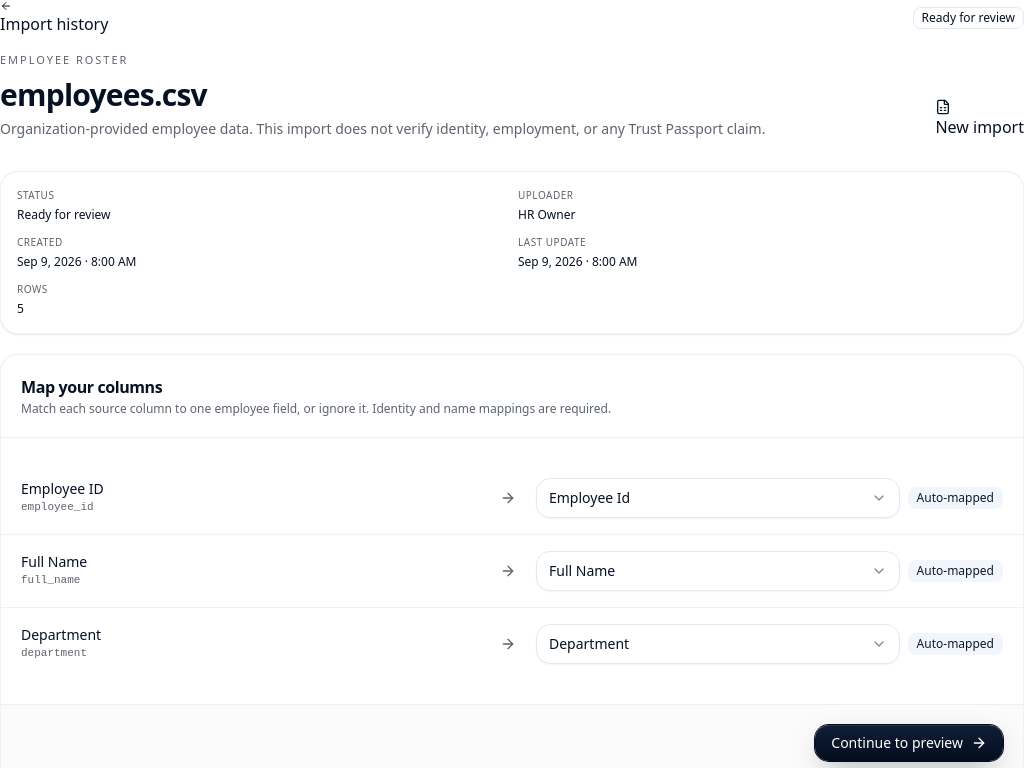
Test: employee roster import detail › renders preview counts, duplicate rows and invalid-row messages
Click the button "Continue to preview": (909, 742) [815, 724, 1003, 760]
(page scrolled)
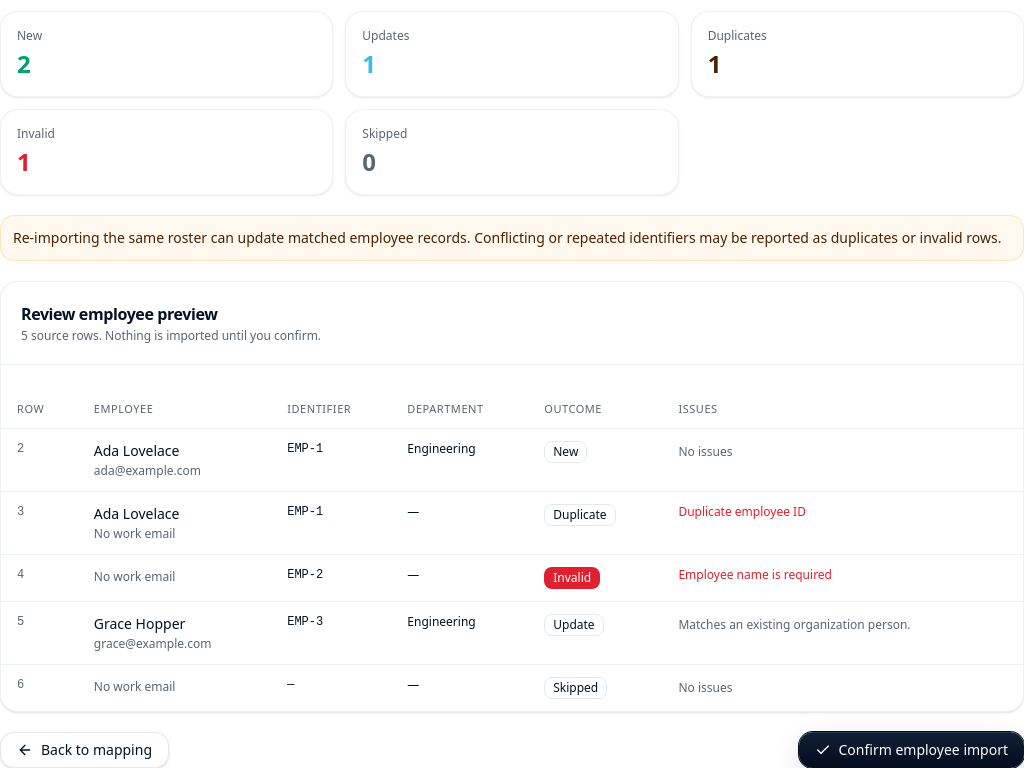
Expected: the heading "Review employee preview" is shown, [21, 302, 217, 324]
Expected: the text "New" next to "Updates" is shown, [17, 26, 42, 44]
Expected: the text "Update" is shown, [544, 614, 604, 636]
